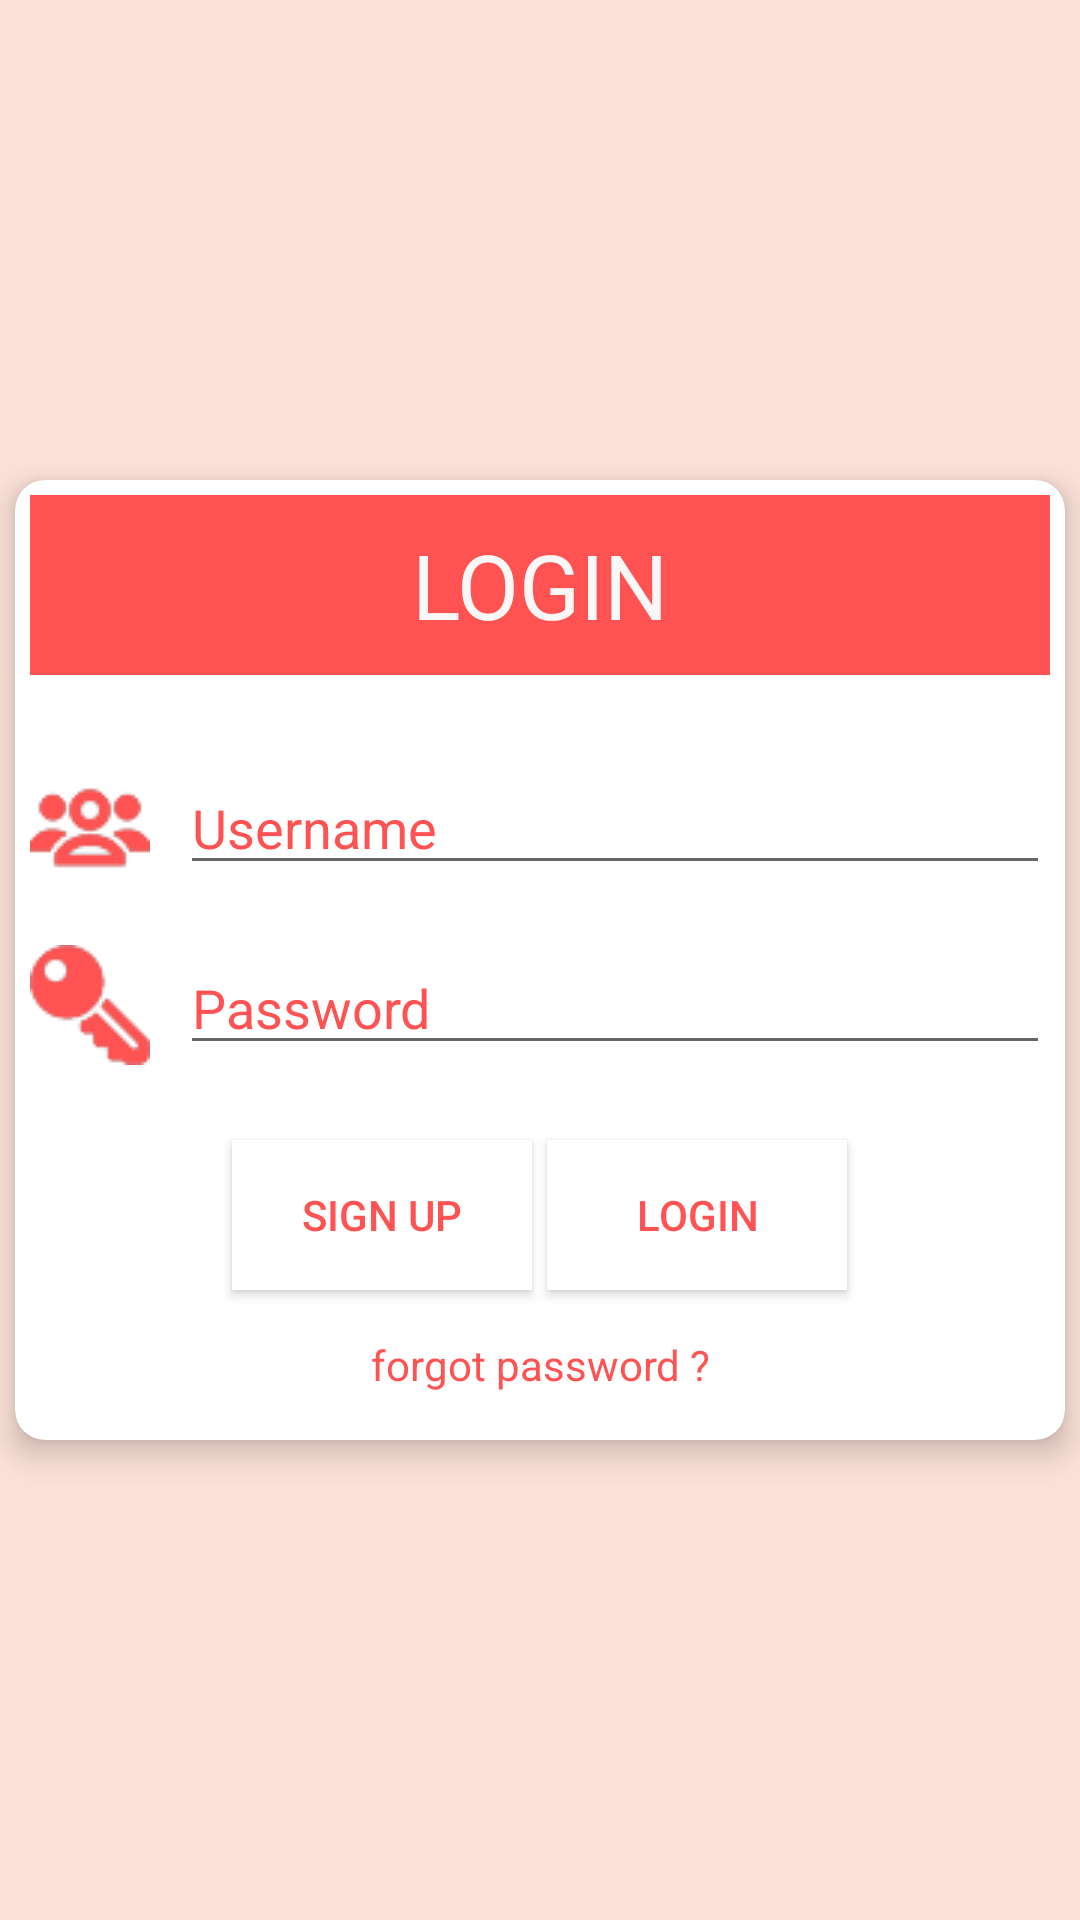

Where icons sit on this 1080w x 1920h app screen, as (x1, y1, x2, y2):
key: (30, 945, 150, 1065)
